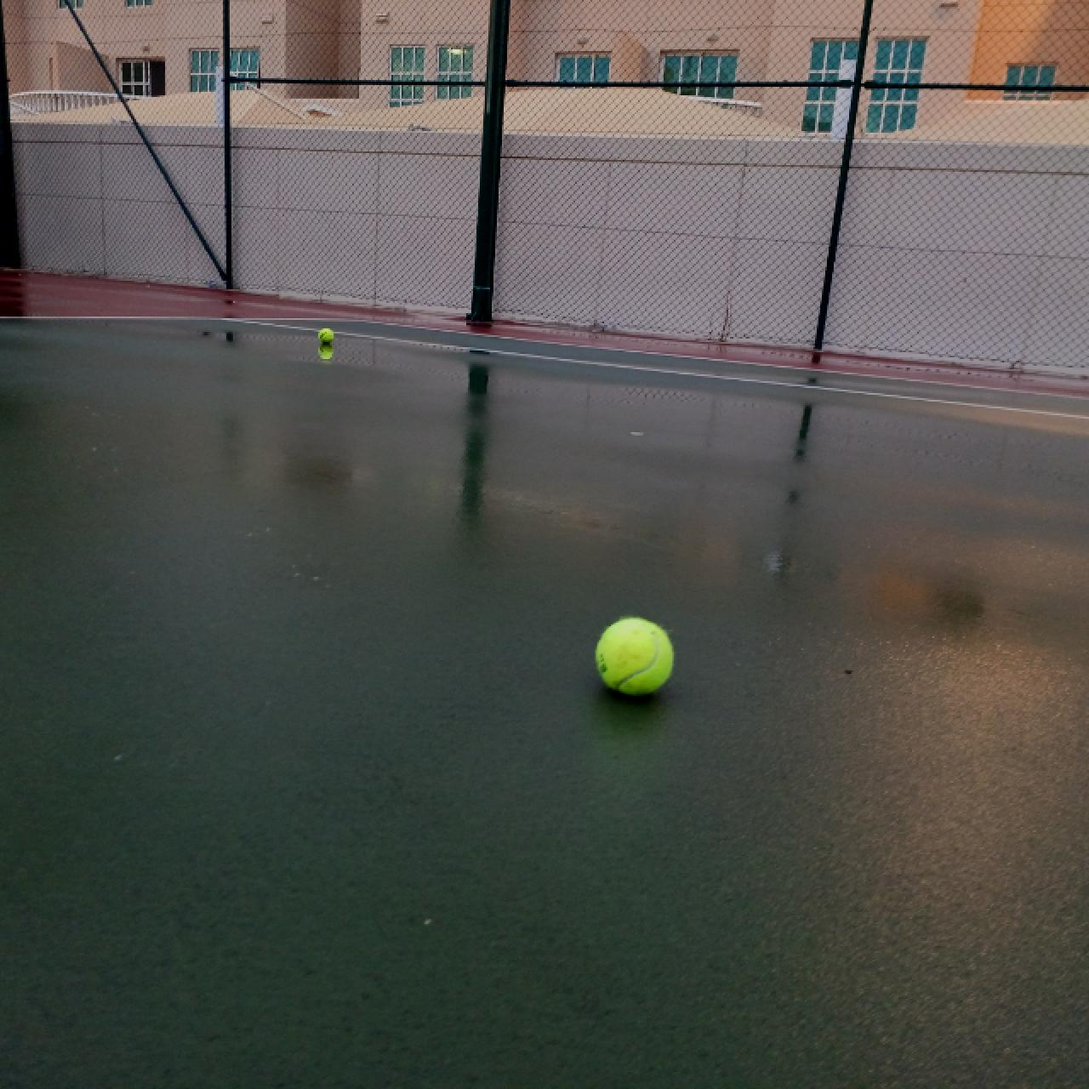tennis-ball: (593, 616, 676, 699), (318, 328, 334, 344)
